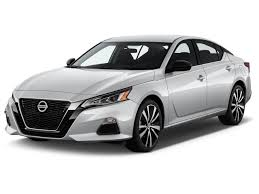Nissan: (6, 37, 243, 136)
